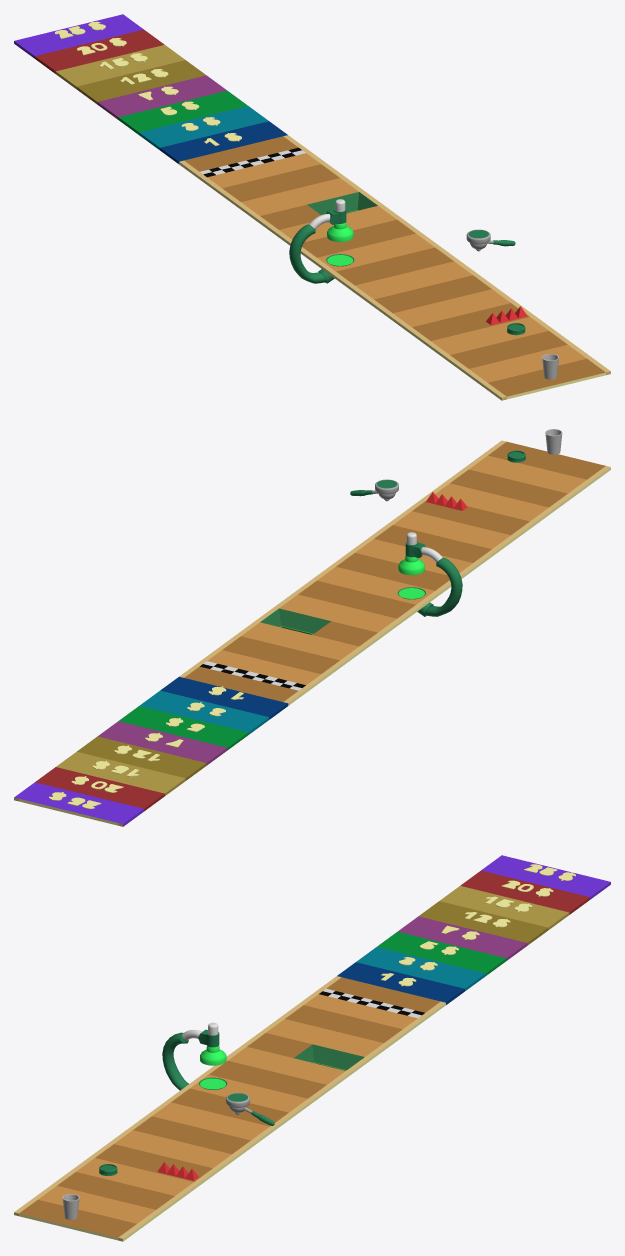
Rendered from AGIZLIK.fbx.
3 views of the same model, one above another, from view 1: azimuth 30°, elevation 25°; view 2: azimuth 150°, elevation 25°; view 3: azimuth 330°, elevation 25° (orthographic).
Visible parts, largest first — view 1: Plane, Cylinder, Espresso; view 2: Plane, Cylinder, Espresso; view 3: Plane, Cylinder, Espresso.
Boxes of the visible parts, bbox=[...] form: Plane: bbox=[14, 14, 610, 400]; Cylinder: bbox=[289, 208, 354, 283]; Espresso: bbox=[466, 229, 515, 251]; Plane: bbox=[14, 440, 610, 826]; Cylinder: bbox=[397, 541, 462, 616]; Espresso: bbox=[350, 479, 398, 501]; Plane: bbox=[14, 855, 610, 1241]; Cylinder: bbox=[162, 1029, 227, 1090]; Espresso: bbox=[226, 1093, 274, 1125].
Bounding box in the file's own units: 179 × 80.16 × 901.
